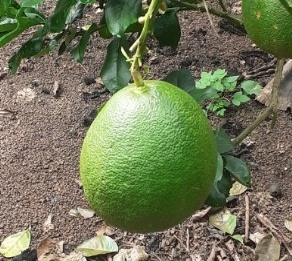Buoi: (59, 73, 224, 233)
